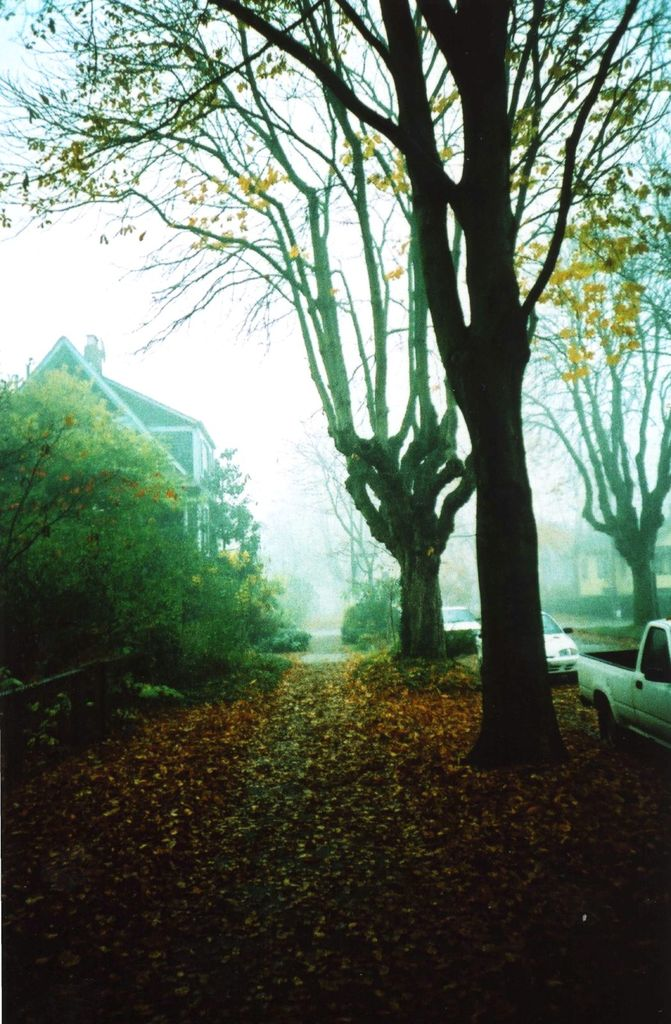Car: (464, 595, 589, 688)
